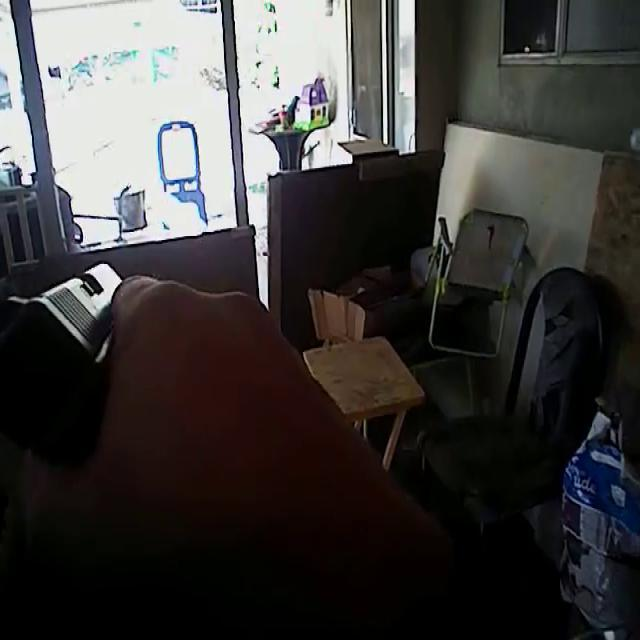gun: (0, 227, 159, 487)
